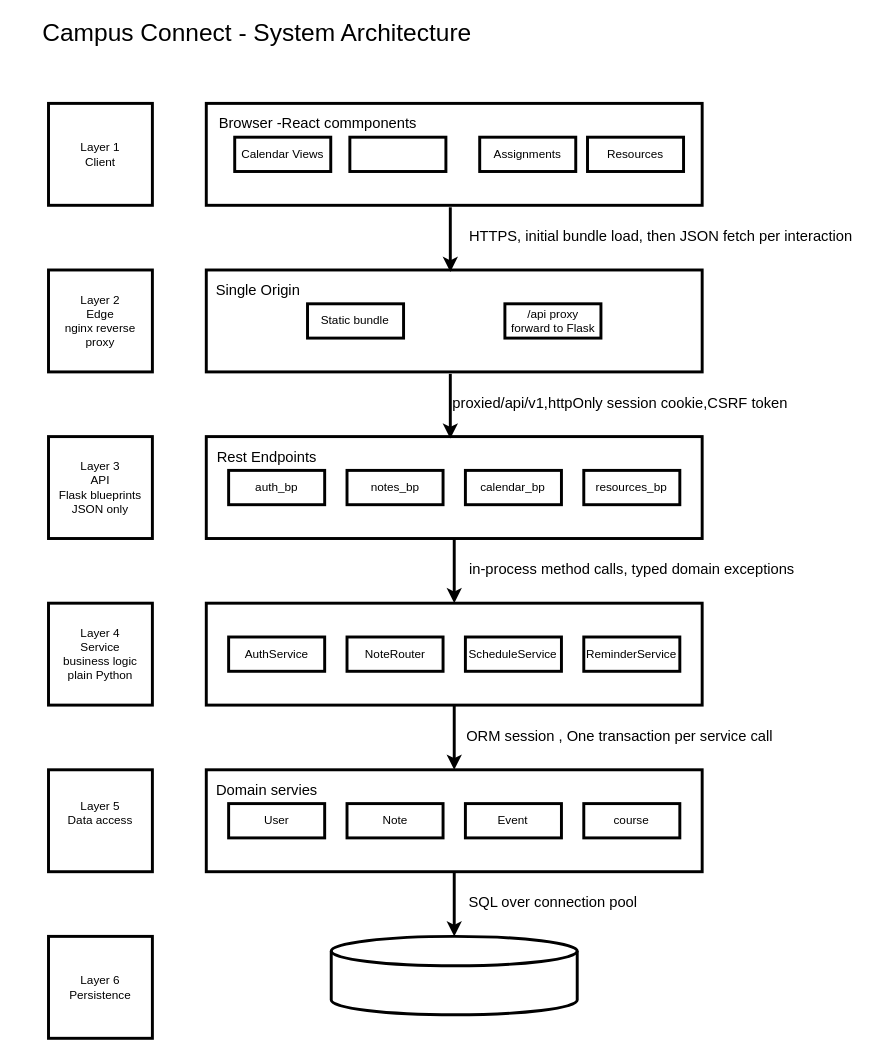
Some shapes in this 878 by 1056 pixel diagram are drawn without their labels. Each missing label, with the centre of its shape:
"PostgreSQL users.courses.events.notes" goes at [453,975].
"Quick capture" goes at [397,153].
